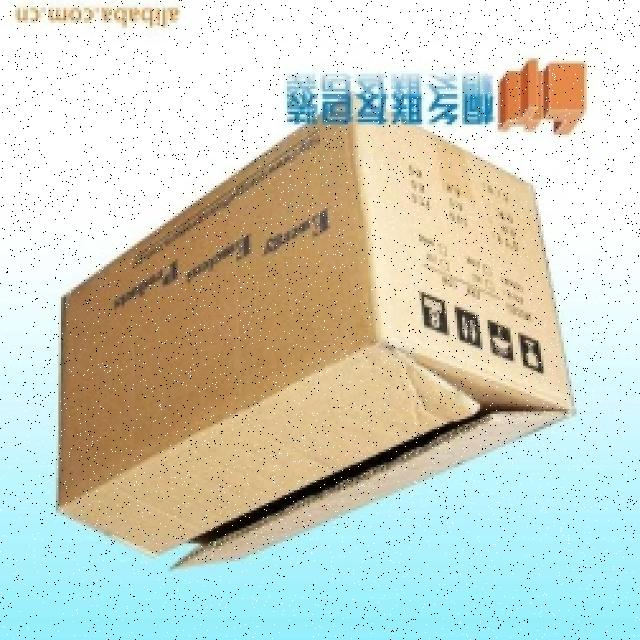box: (21, 106, 586, 574)
